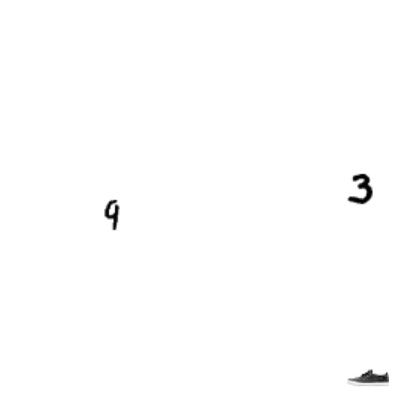3: (341, 168, 383, 210)
9: (91, 191, 133, 233)
Sneaker: (347, 356, 389, 398)
